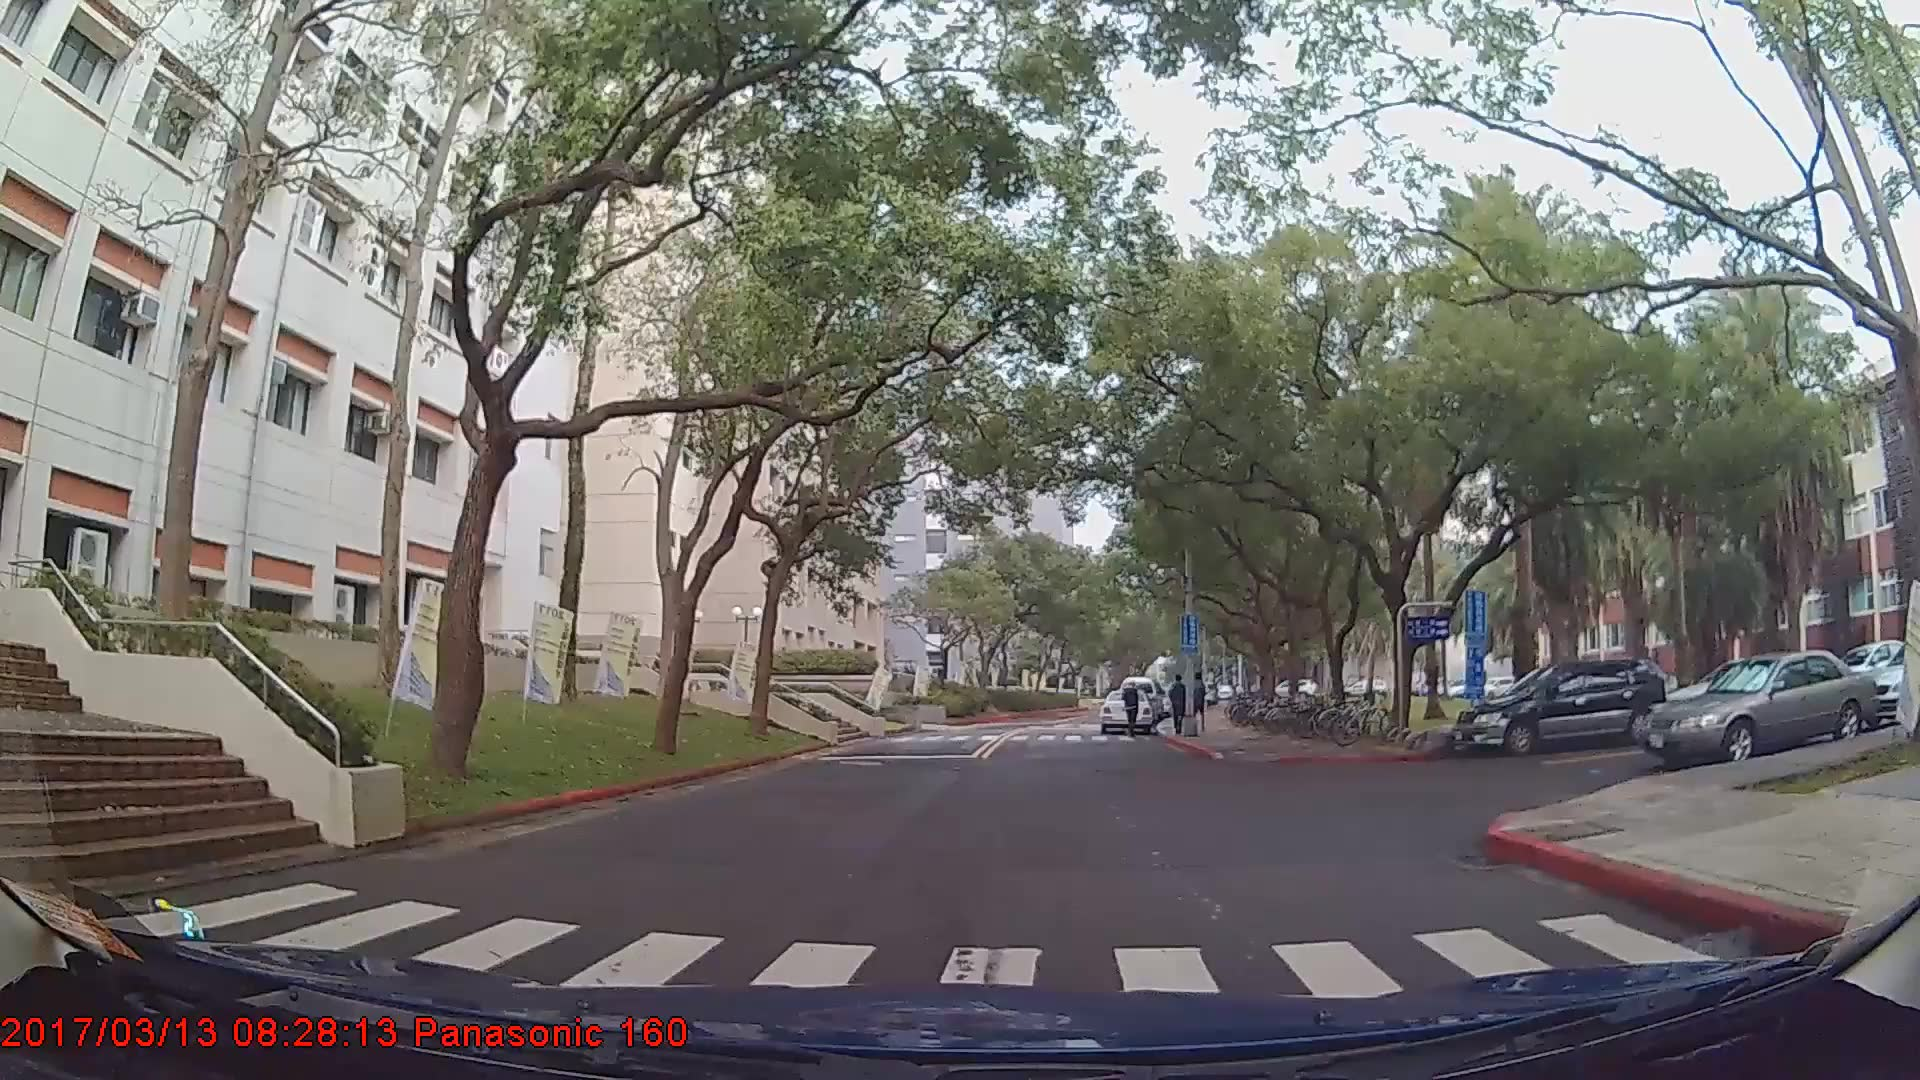pedestrian: (1171, 677, 1193, 733), (1122, 681, 1142, 740)
vehicle: (1640, 648, 1877, 767), (1453, 655, 1665, 759), (1094, 687, 1152, 733)
